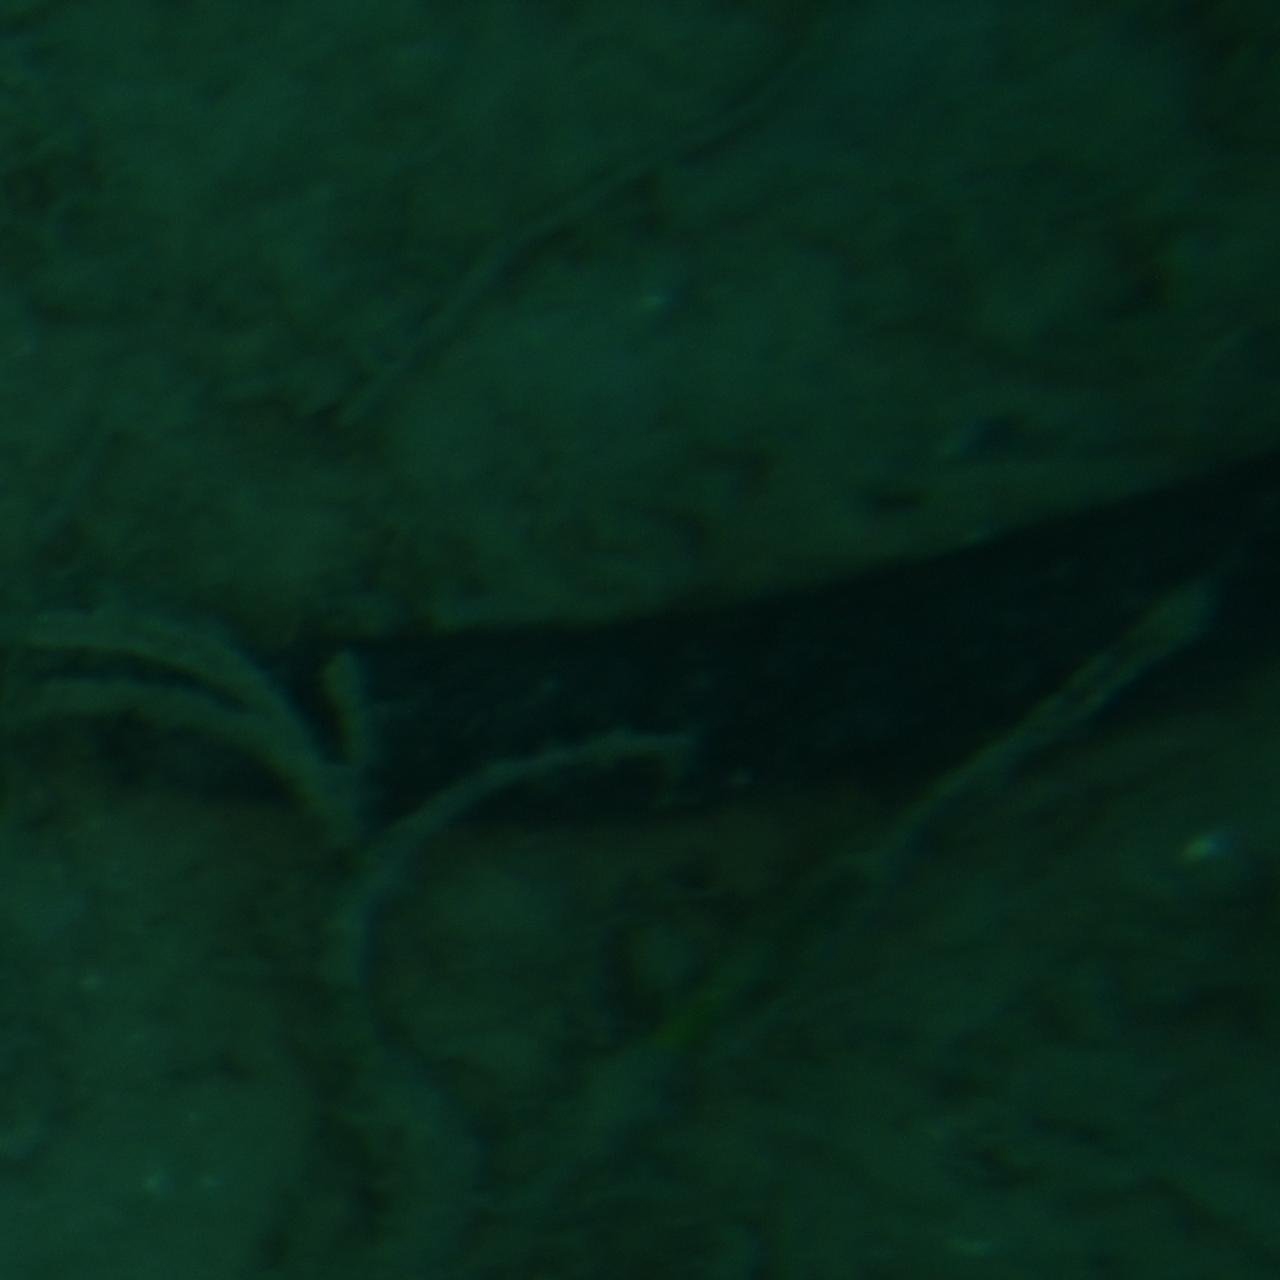Holothuria tubulosa: (89, 444, 1279, 836)
